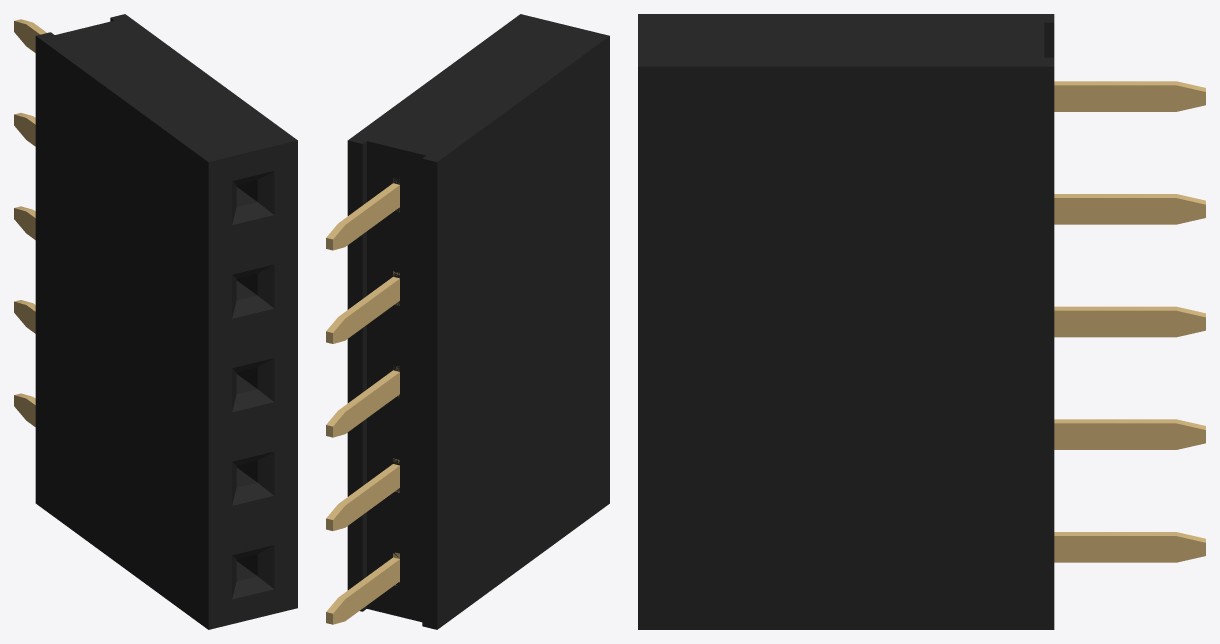
File: socket-1x05.glb
The picture shows the model from 3 angles, left to right: view 1: azimuth 30°, elevation 25°; view 2: azimuth 150°, elevation 25°; view 3: azimuth 270°, elevation 25°; orthographic projection. The views are drawn at different scales.
Visible parts, largest first — view 1: IC-BODY-EPOXY-04, PIN-02 (×5); view 2: IC-BODY-EPOXY-04, PIN-02 (×5); view 3: IC-BODY-EPOXY-04, PIN-02 (×5).
Boxes of the visible parts, box(x1,y1,x2,y2) form: IC-BODY-EPOXY-04: box(35, 14, 297, 629); PIN-02 (×5): box(14, 19, 46, 426); IC-BODY-EPOXY-04: box(347, 14, 609, 629); PIN-02 (×5): box(326, 178, 399, 624); IC-BODY-EPOXY-04: box(638, 14, 1054, 629); PIN-02 (×5): box(1054, 81, 1205, 562).
Bounding box in the file's own units: 2.54 × 12.7 × 11.6.
